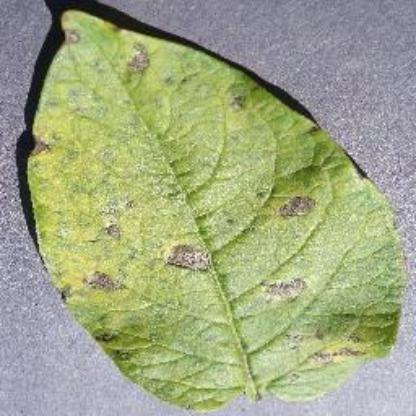Early-Blight: (22, 1, 412, 411)
